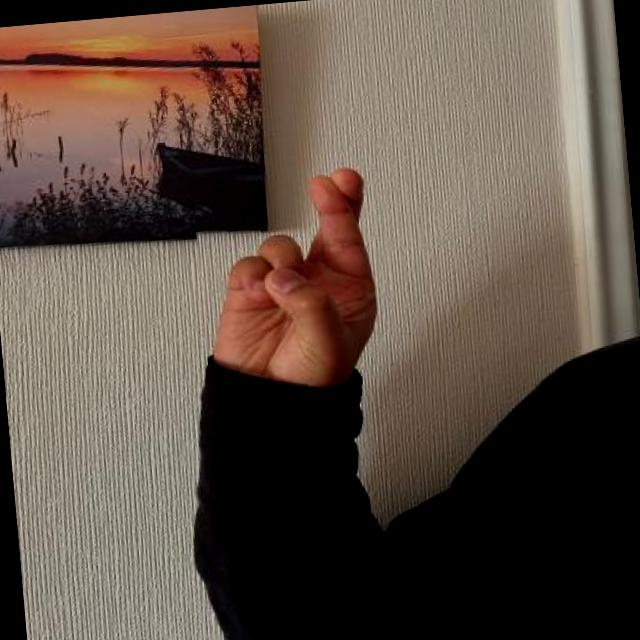R: (191, 162, 394, 414)
